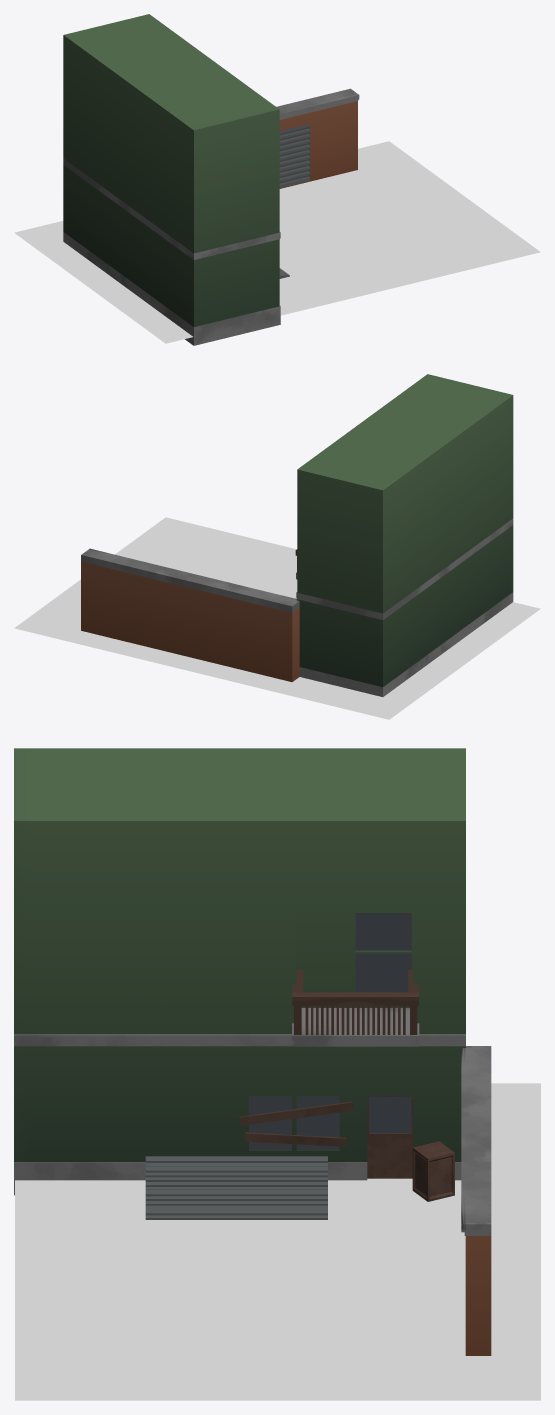
Rendered from GameEngineAssetsTextured 1.fbx.
3 views of the same model, one above another, from view 1: azimuth 30°, elevation 25°; view 2: azimuth 150°, elevation 25°; view 3: azimuth 270°, elevation 25° (orthographic). The views are drawn at different scales.
Parts seen in each view (by area): view 1: 2Storey, GroundPlane, Garage, GarageDoor; view 2: 2Storey, GroundPlane, Garage; view 3: 2Storey, GroundPlane, Garage, Railing, Box, MetalPlank.014, MetalPlank.030, MetalPlank.046, MetalPlank.047, WoodPlank, MetalPlank.044, WoodPlank.001 (+5 smaller).
Part boxes in pixels (x1,y1,x2,y2): 2Storey: (63, 14, 280, 345); GroundPlane: (14, 141, 540, 343); Garage: (276, 88, 359, 188); GarageDoor: (279, 124, 309, 188); 2Storey: (296, 374, 513, 696); GroundPlane: (14, 517, 540, 719); Garage: (81, 548, 299, 681); 2Storey: (14, 748, 465, 1195); GroundPlane: (15, 1083, 540, 1400); Garage: (461, 1046, 491, 1355); Railing: (292, 969, 418, 1034); Box: (412, 1141, 454, 1201); MetalPlank.014: (145, 1208, 327, 1215); MetalPlank.030: (145, 1189, 327, 1196); MetalPlank.046: (145, 1166, 327, 1172); MetalPlank.047: (145, 1156, 327, 1162); WoodPlank: (239, 1101, 353, 1125); MetalPlank.044: (145, 1172, 327, 1177); WoodPlank.001: (244, 1132, 346, 1146).
Bounding box in the file's own units: 5501 × 3020 × 3860.
8 materials, 7 textured.
